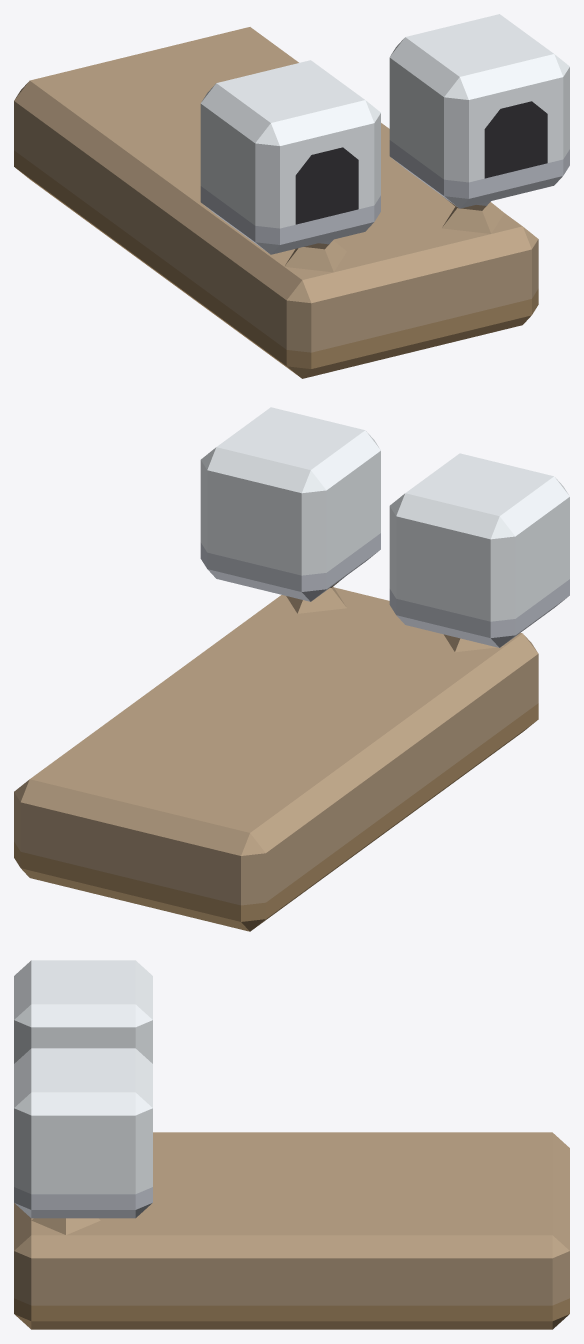
File: Snail.glb
3 views of the same model, one above another, from view 1: azimuth 30°, elevation 25°; view 2: azimuth 150°, elevation 25°; view 3: azimuth 270°, elevation 25° (orthographic). The views are drawn at different scales.
Parts seen in each view (by area): view 1: pl0; view 2: pl0; view 3: pl0.
Boxes of the visible parts, x1,y1,x2,y2 form: pl0: (14, 14, 569, 378); pl0: (14, 407, 569, 931); pl0: (14, 960, 569, 1329).
Bounding box in the file's own units: 1 × 0.8 × 1.6.
1 material, 1 textured.
